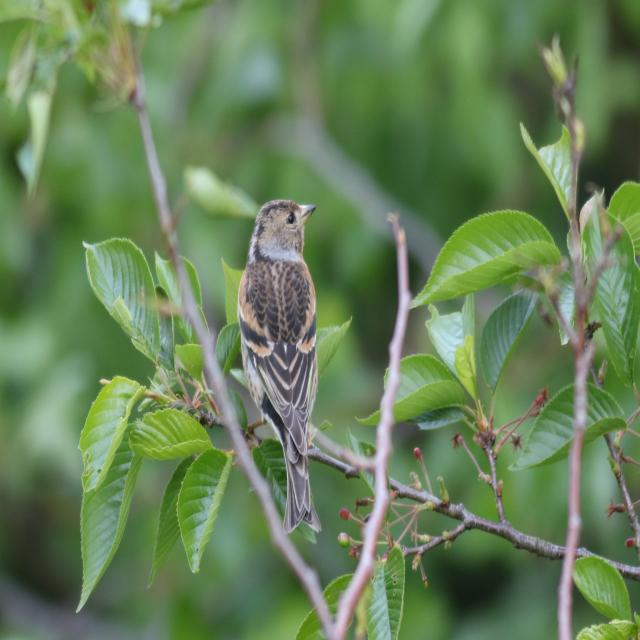bird: (234, 199, 334, 540)
